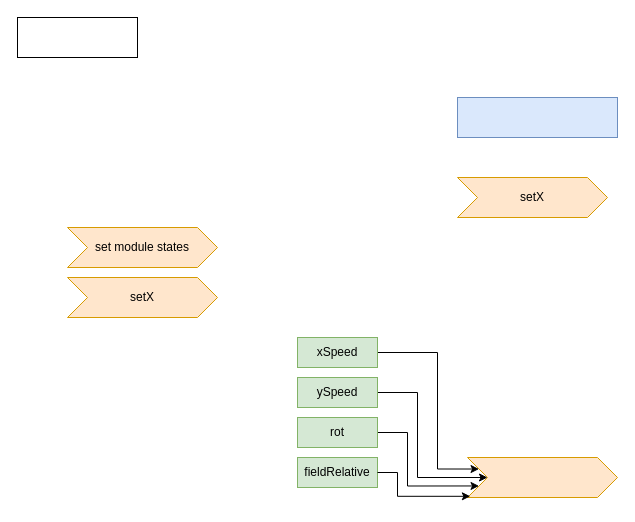
Some shapes in this 635 by 522 pixel diagram are drawn without their labels. Each missing label, with the centre of its shape:
"drive" goes at point 542,477.
"Drive Subsystem" goes at point 77,37.
"swerveModuleStates" goes at point 537,117.
